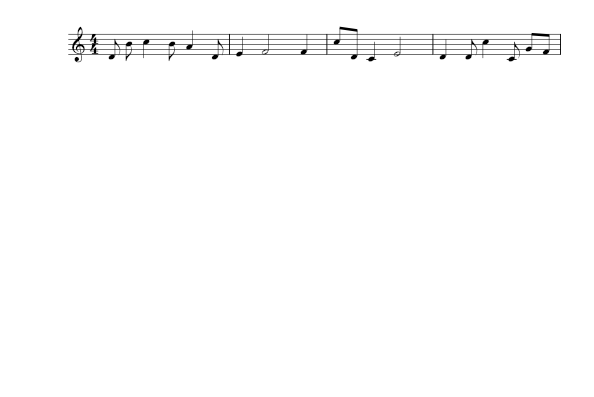Treble Clef: (68, 21, 86, 65)
